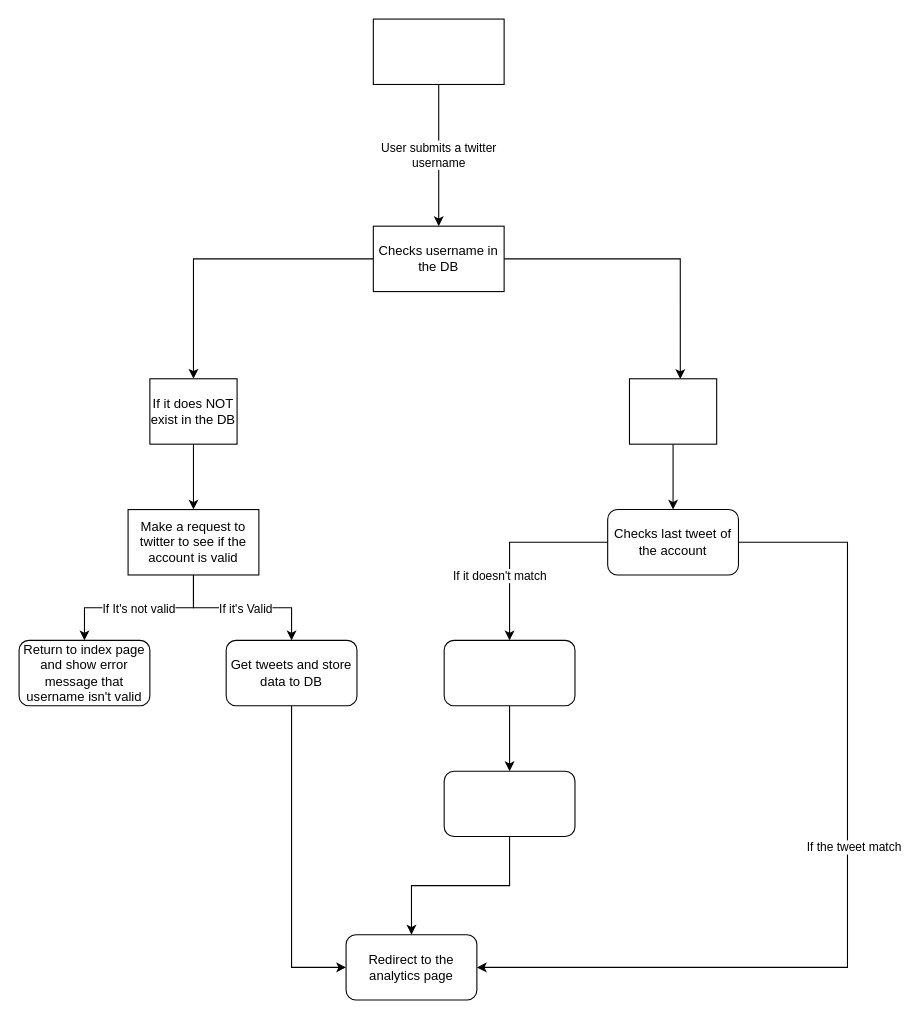
Image size: 920x1019. Some labels were removed from this diagram. The centre of each missing label's shape, as x and y in pixels:
Analyse data: (x=509, y=803)
If it's exists in the DB: (x=672, y=411)
Index Page: (x=438, y=51)
Update tweets: (x=509, y=672)
